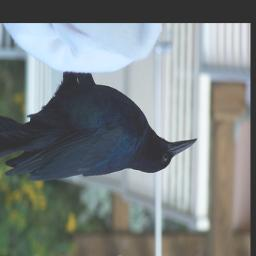Crow: (0, 73, 198, 182)
